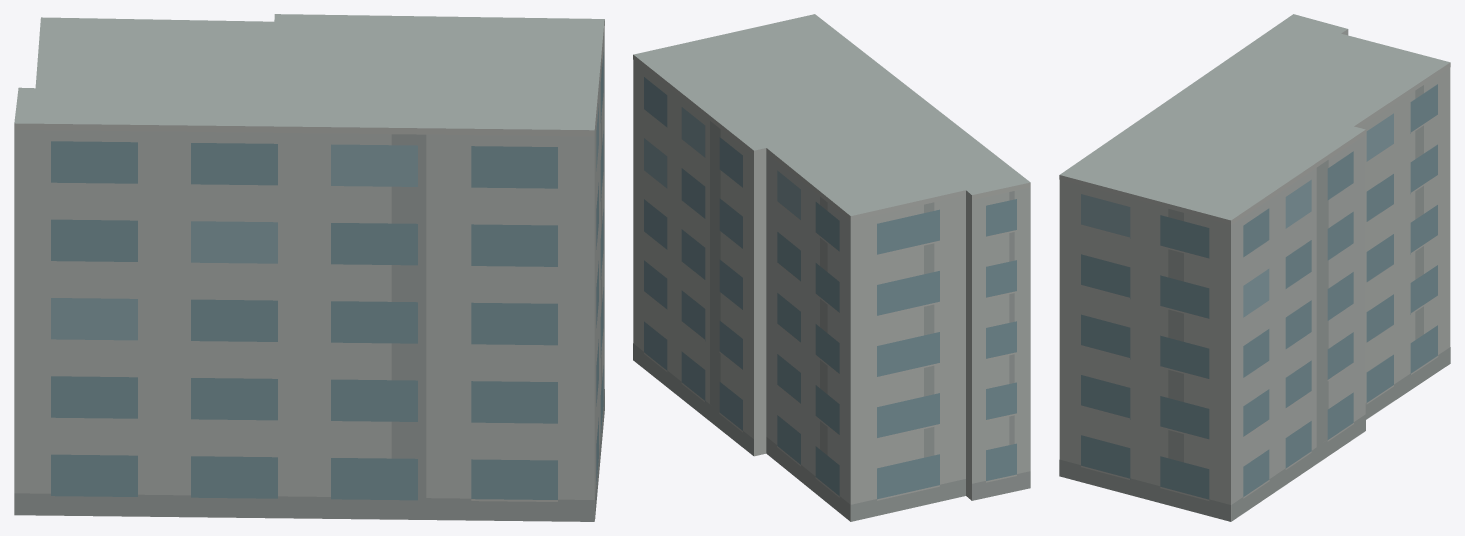
The model's file is survey-upis-32674576.glb.
3 views of the same model, side by side, from view 1: azimuth 30°, elevation 25°; view 2: azimuth 150°, elevation 25°; view 3: azimuth 270°, elevation 25° (orthographic). The views are drawn at different scales.
Parts seen in each view (by area): view 1: survey-upis-32674576.tmp; view 2: survey-upis-32674576.tmp; view 3: survey-upis-32674576.tmp.
Boxes of the visible parts, left/top/right/bottom form: survey-upis-32674576.tmp: left=14, top=14, right=604, bottom=521; survey-upis-32674576.tmp: left=633, top=14, right=1030, bottom=521; survey-upis-32674576.tmp: left=1059, top=14, right=1450, bottom=521.
Bounding box in the file's own units: 22.04 × 15 × 17.64.
